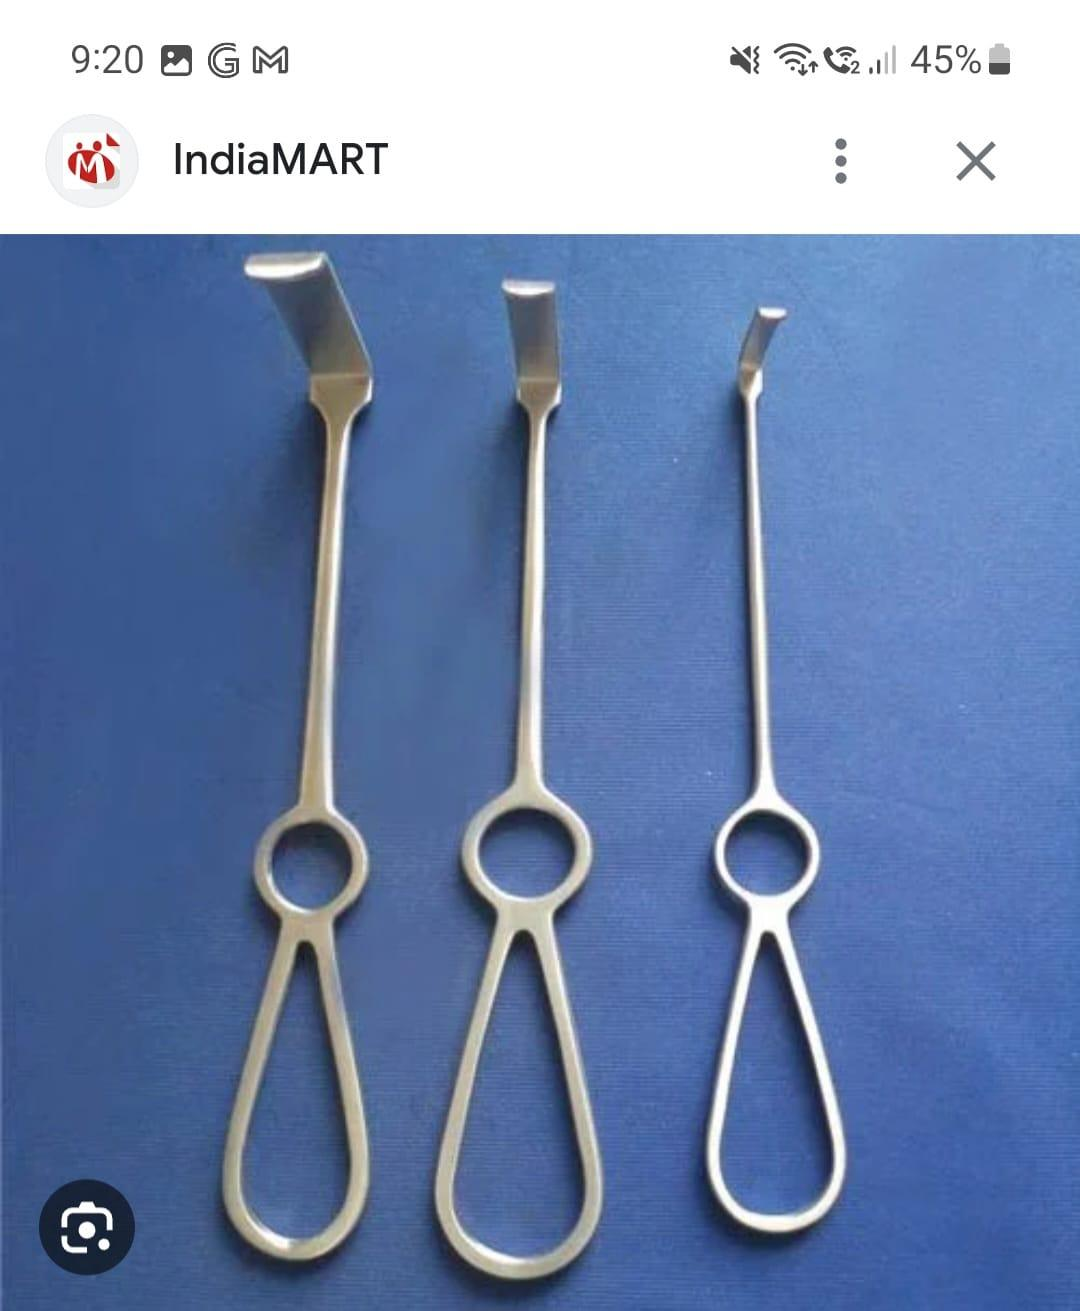Langenbach Retractor: (426, 260, 607, 1292), (216, 240, 380, 1262)
